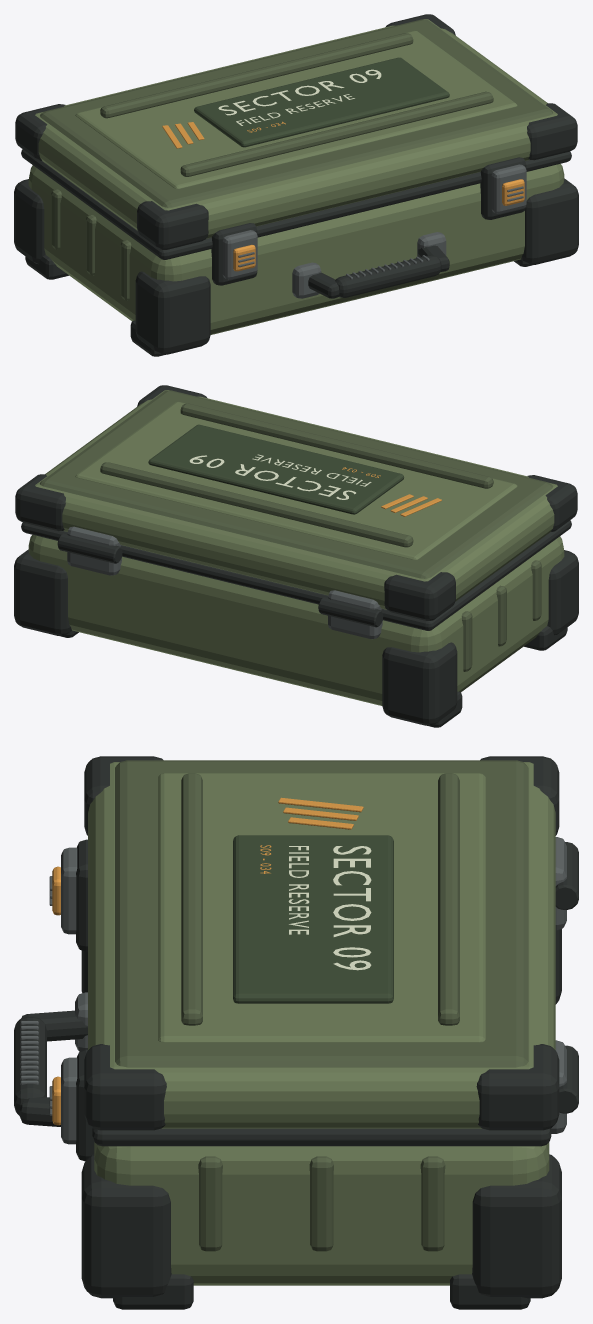
Rendered from field-reserve.glb.
3 views of the same model, one above another, from view 1: azimuth 30°, elevation 25°; view 2: azimuth 150°, elevation 25°; view 3: azimuth 270°, elevation 25° (orthographic). The views are drawn at different scales.
Visible parts, largest first — view 1: Lower tub, Lid, Recessed lid face, Reinforced upper frame, Back identification panel, Corner bumper, Compression seal, Lid stiffener 1, Lid stiffener 2, Corner bumper.002, Lid corner cap, Carry grip (+17 smaller); view 2: Lower tub, Lid, Recessed lid face, Reinforced upper frame, Back identification panel, Corner bumper.001, Compression seal, Lid stiffener 1, Lid stiffener 2, Corner bumper.003, Lid corner cap.001, Corner bumper (+11 smaller); view 3: Recessed lid face, Lower tub, Reinforced upper frame, Lid, Back identification panel, Corner bumper.002, Corner bumper.003, Compression seal, Lid corner cap.003, Lid stiffener 1, Lid stiffener 2, Lid corner cap.002 (+19 smaller).
Part boxes in pixels (x1,y1,x2,y2): Lower tub: [28, 164, 564, 334]; Lid: [35, 19, 557, 238]; Recessed lid face: [75, 30, 517, 188]; Reinforced upper frame: [40, 19, 552, 207]; Back identification panel: [194, 57, 449, 147]; Corner bumper: [135, 271, 210, 354]; Compression seal: [21, 149, 571, 259]; Lid stiffener 1: [180, 91, 493, 176]; Lid stiffener 2: [100, 33, 413, 118]; Corner bumper.002: [521, 178, 578, 264]; Lid corner cap: [137, 201, 208, 249]; Carry grip: [335, 255, 441, 297]; Lower tub: [28, 535, 564, 705]; Lid: [35, 390, 557, 609]; Recessed lid face: [75, 401, 517, 559]; Reinforced upper frame: [40, 390, 552, 578]; Back identification panel: [148, 424, 404, 514]; Corner bumper.001: [382, 642, 457, 725]; Compression seal: [21, 520, 571, 630]; Lid stiffener 1: [180, 403, 493, 488]; Lid stiffener 2: [100, 462, 413, 547]; Corner bumper.003: [14, 549, 71, 635]; Lid corner cap.001: [384, 572, 455, 620]; Corner bumper: [547, 550, 578, 635]; Recessed lid face: [158, 773, 485, 1042]; Lower tub: [94, 1142, 549, 1285]; Reinforced upper frame: [115, 760, 528, 1067]; Lid: [88, 762, 555, 1128]; Back identification panel: [233, 835, 393, 1003]; Corner bumper.002: [81, 1154, 171, 1298]; Corner bumper.003: [472, 1154, 561, 1298]; Compression seal: [92, 1128, 551, 1146]; Lid corner cap.003: [476, 1044, 559, 1130]; Lid stiffener 1: [181, 773, 202, 1025]; Lid stiffener 2: [438, 773, 459, 1025]; Lid corner cap.002: [84, 1044, 166, 1130].
Size of the model in its own units: 0.93 by 0.3395 by 0.6709.
